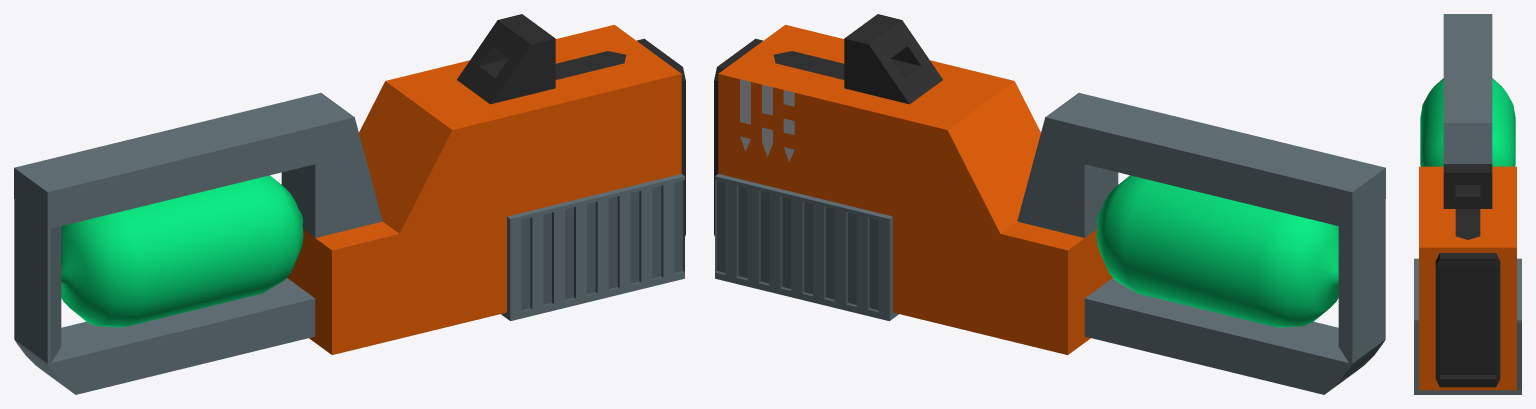
Rendered from LaserGun.fbx.
The picture shows the model from 3 angles, left to right: view 1: azimuth 30°, elevation 25°; view 2: azimuth 150°, elevation 25°; view 3: azimuth 270°, elevation 25°; orthographic projection. The views are drawn at different scales.
Parts seen in each view (by area): view 1: Laser Gun; view 2: Laser Gun; view 3: Laser Gun.
Boxes of the visible parts, x1,y1,x2,y2 form: Laser Gun: [14, 14, 685, 394]; Laser Gun: [714, 14, 1385, 394]; Laser Gun: [1414, 14, 1521, 394].
Size of the model in its own units: 187 by 71.11 by 37.86.
